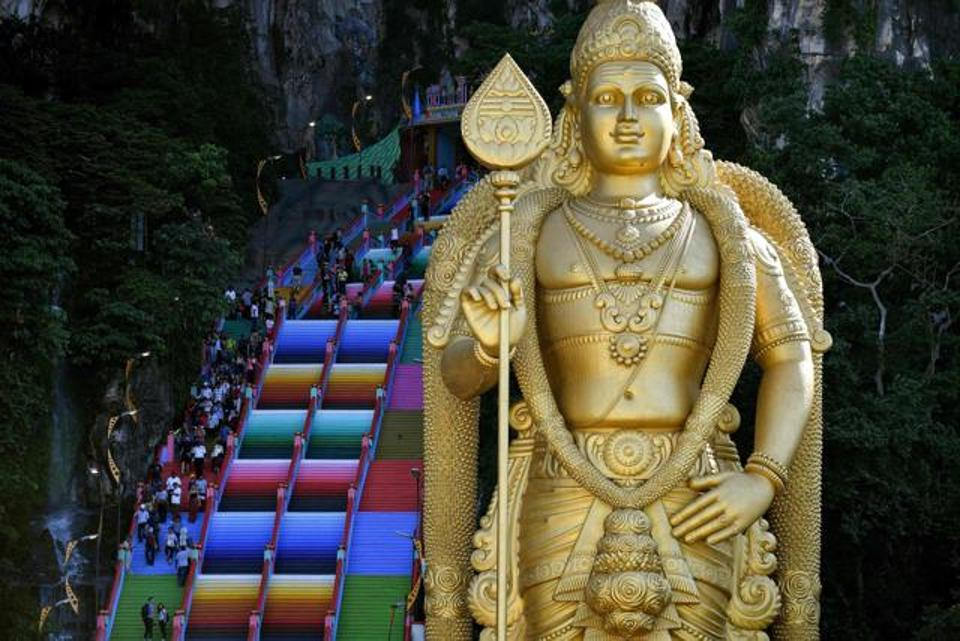Hindu Temple: (419, 1, 827, 640)
